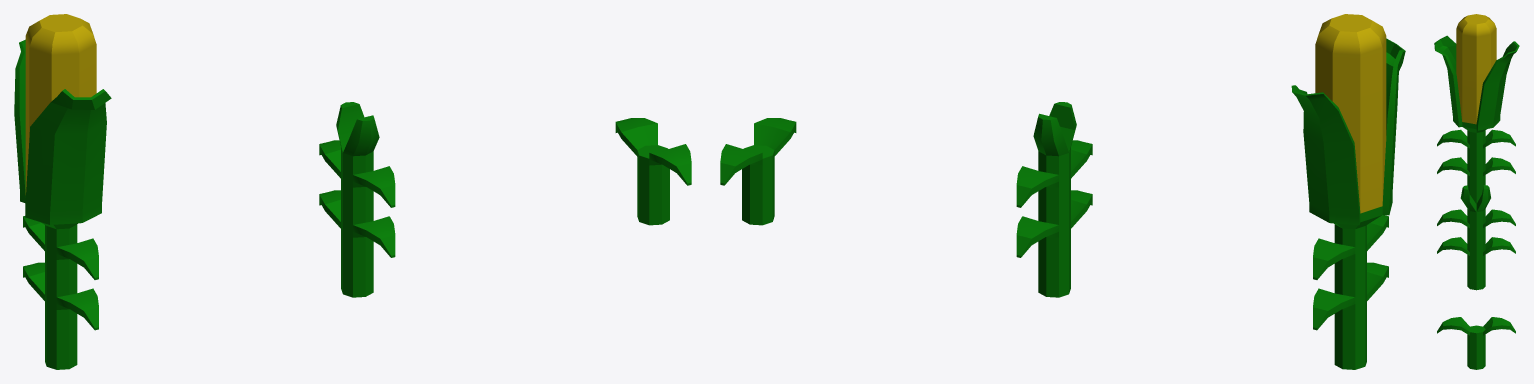
Rendered from Corn.fbx.
3 renders of one model, left to right at view 1: azimuth 30°, elevation 25°; view 2: azimuth 150°, elevation 25°; view 3: azimuth 270°, elevation 25°, orthographic. The views are drawn at different scales.
Parts seen in each view (by area): view 1: CornFull, CornMiddle, CornSprout; view 2: CornFull, CornMiddle, CornSprout; view 3: CornFull, CornMiddle, CornSprout.
Boxes of the visible parts, box(x1,y1,x2,y2) form: CornFull: box(14, 14, 111, 369); CornMiddle: box(319, 102, 395, 297); CornSprout: box(615, 118, 691, 225); CornFull: box(1291, 14, 1405, 369); CornMiddle: box(1016, 102, 1092, 297); CornSprout: box(720, 118, 796, 225); CornFull: box(1434, 14, 1519, 203); CornMiddle: box(1437, 185, 1515, 290); CornSprout: box(1437, 317, 1515, 369).
Bounding box in the file's own units: 2.19 × 1.1 × 0.4523.
